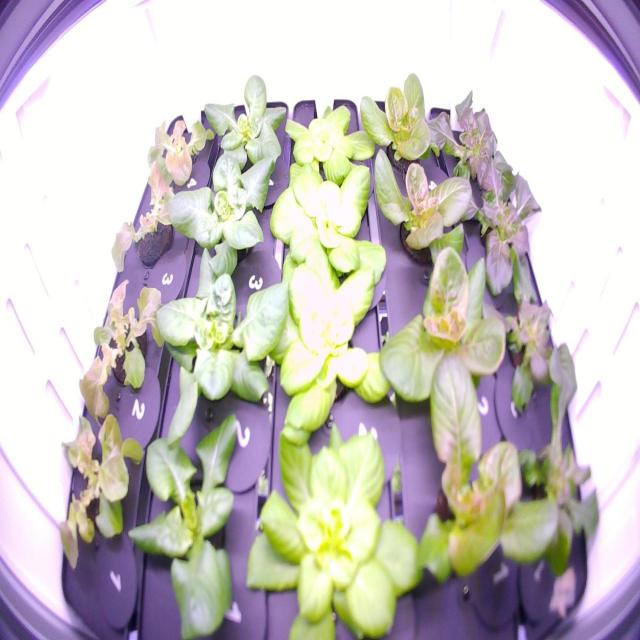young: (237, 403, 430, 636), (407, 346, 562, 611), (242, 250, 409, 468), (151, 231, 294, 464), (115, 399, 248, 638), (370, 236, 514, 411), (264, 152, 390, 310), (159, 134, 278, 289), (366, 139, 483, 286), (192, 65, 290, 194), (270, 93, 383, 202), (354, 59, 449, 182)
